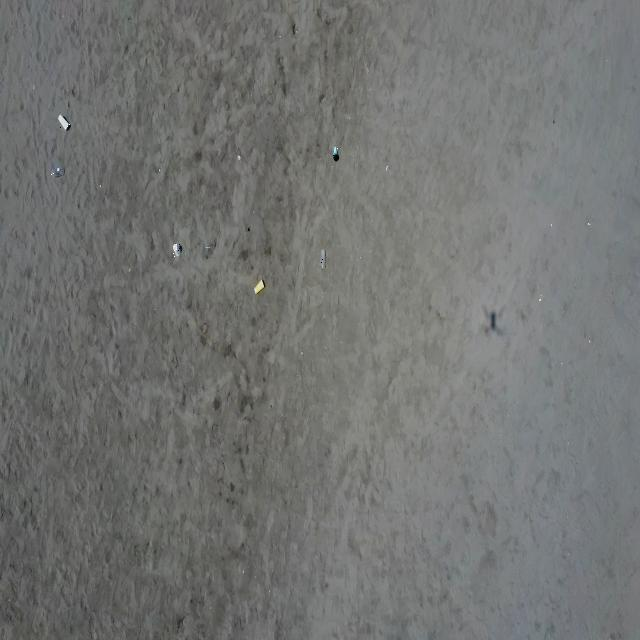takeaway-cup: (58, 114, 70, 131), (254, 279, 265, 295), (318, 249, 326, 270), (51, 166, 63, 178), (173, 243, 181, 257), (333, 146, 339, 162)
